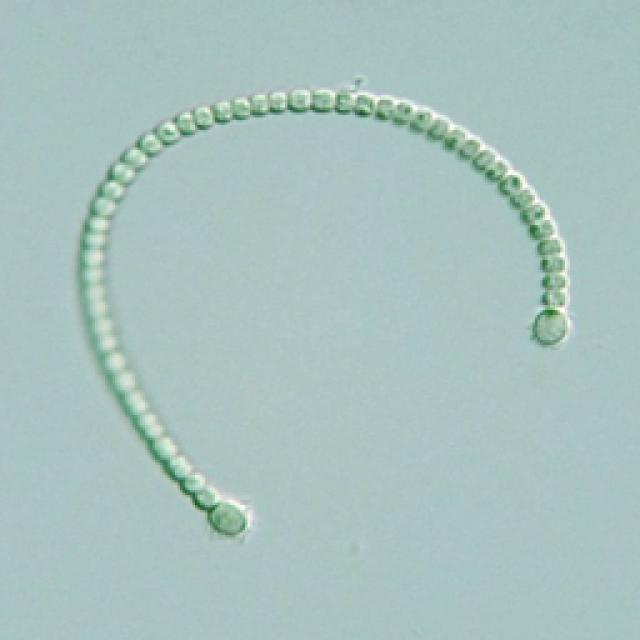Anabaena: (58, 85, 581, 552)
